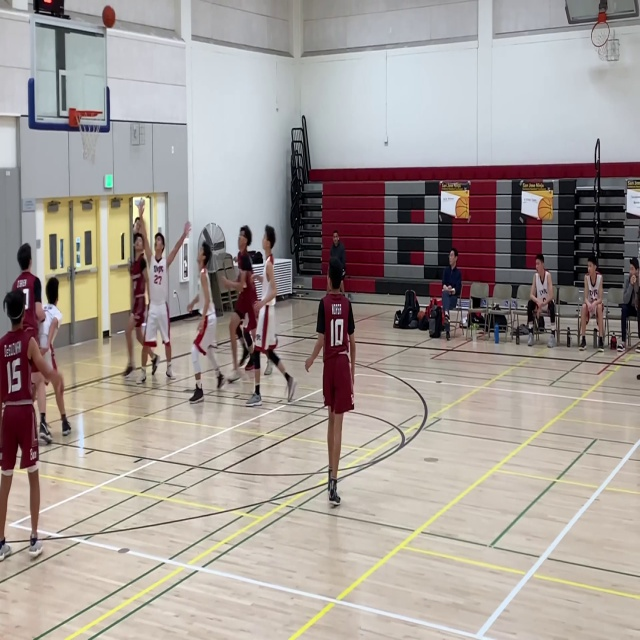Basketball: (102, 5, 115, 28)
